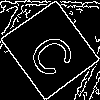C: (25, 24, 86, 82)
